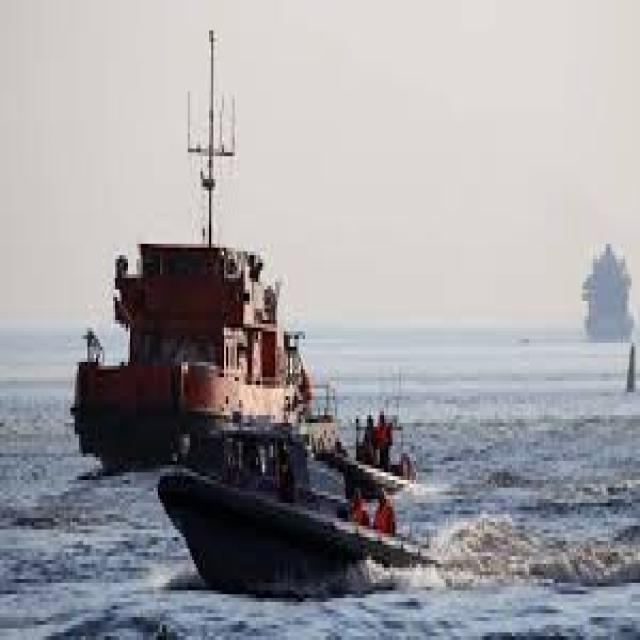houseboat: (65, 218, 301, 457), (156, 387, 364, 592), (324, 384, 420, 508)
